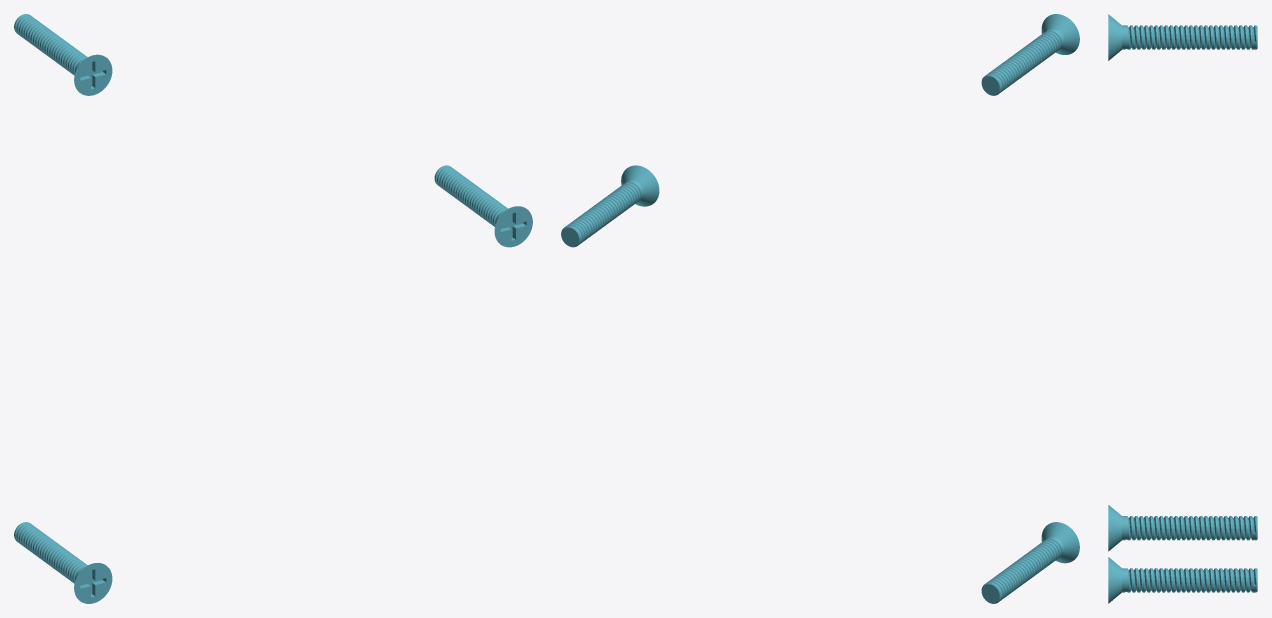
File: Cap_Retainer_Screws.glb
The picture shows the model from 3 angles, left to right: view 1: azimuth 30°, elevation 25°; view 2: azimuth 150°, elevation 25°; view 3: azimuth 270°, elevation 25°; orthographic projection. The views are drawn at different scales.
Parts seen in each view (by area): view 1: Cap_Retainer_Screws_0; view 2: Cap_Retainer_Screws_0; view 3: Cap_Retainer_Screws_0.
Boxes of the visible parts, box(x1,y1,x2,y2) form: Cap_Retainer_Screws_0: box(14, 14, 532, 603); Cap_Retainer_Screws_0: box(561, 14, 1079, 603); Cap_Retainer_Screws_0: box(1108, 14, 1257, 603).
Size of the model in its own units: 45.5 by 51.95 by 12.
